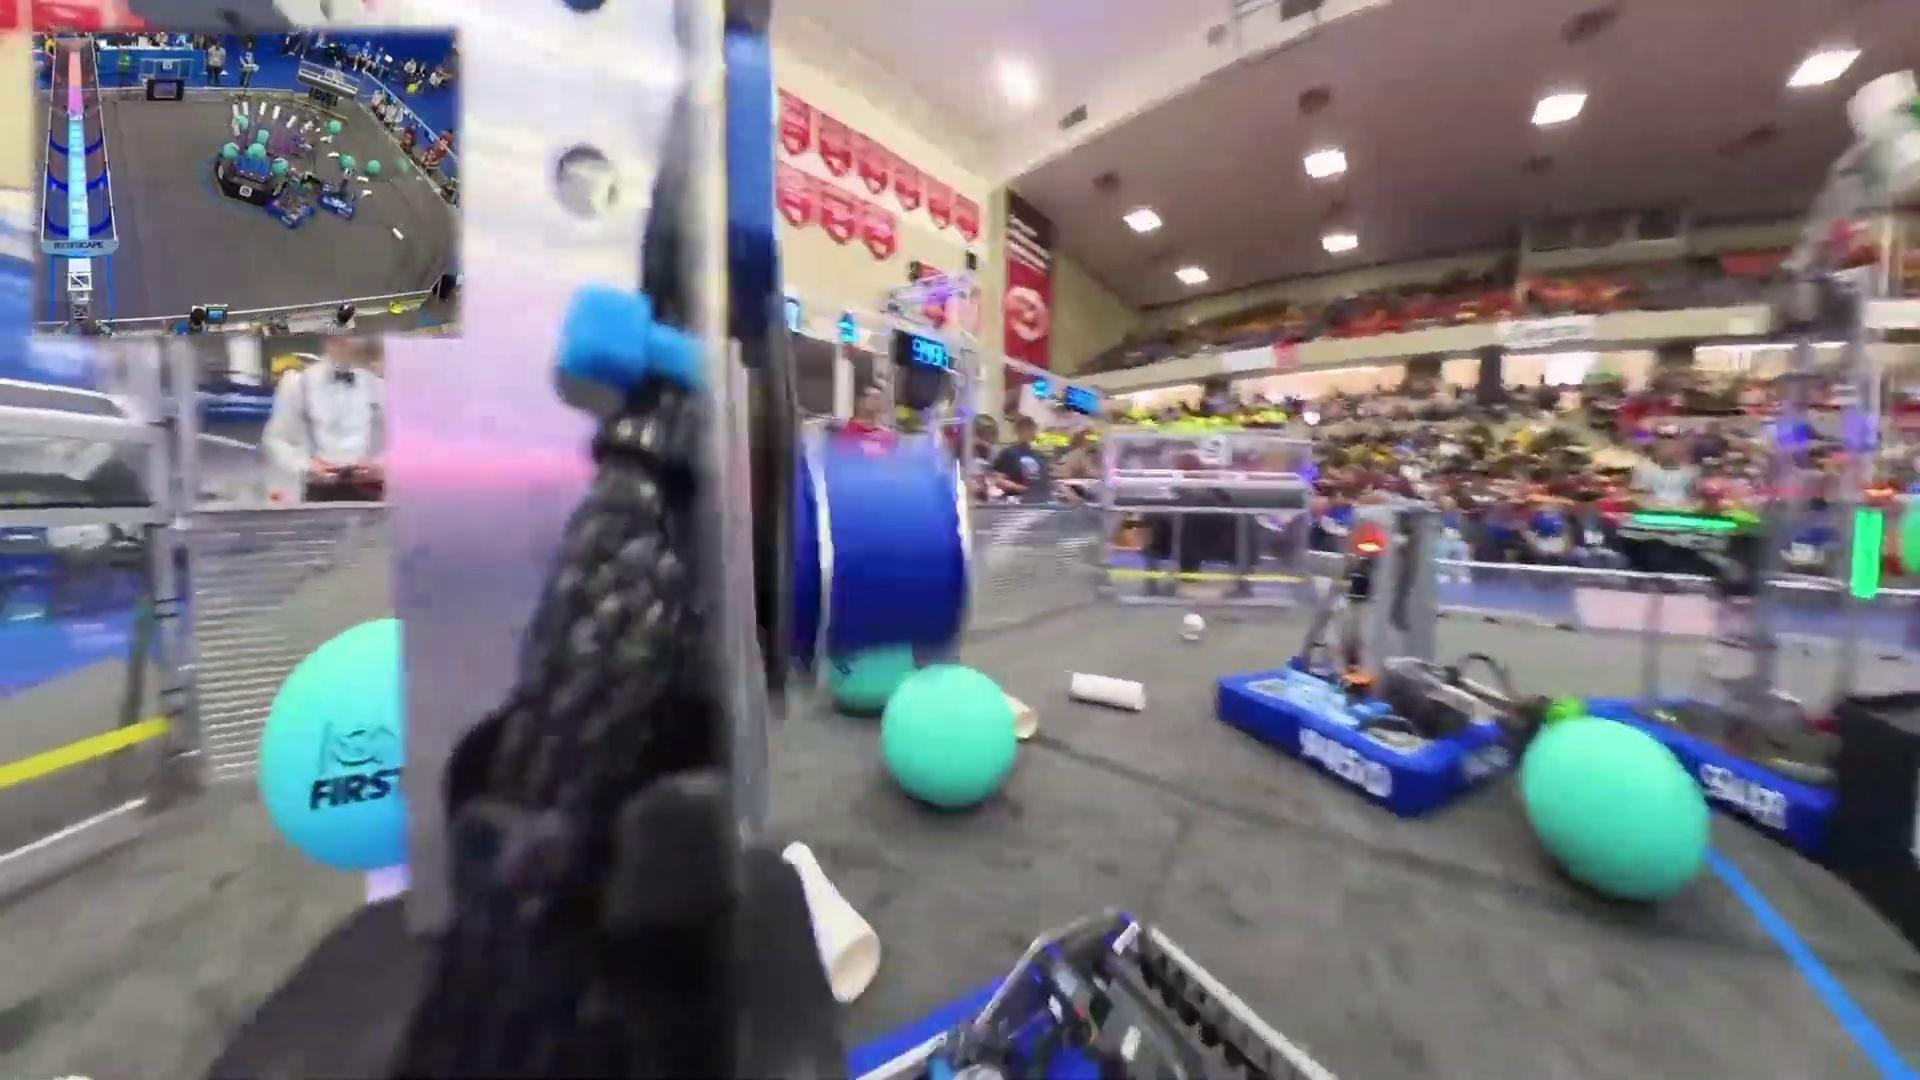robot: (1216, 495, 1569, 822), (1586, 517, 1834, 861), (261, 175, 314, 231), (318, 170, 360, 225)
